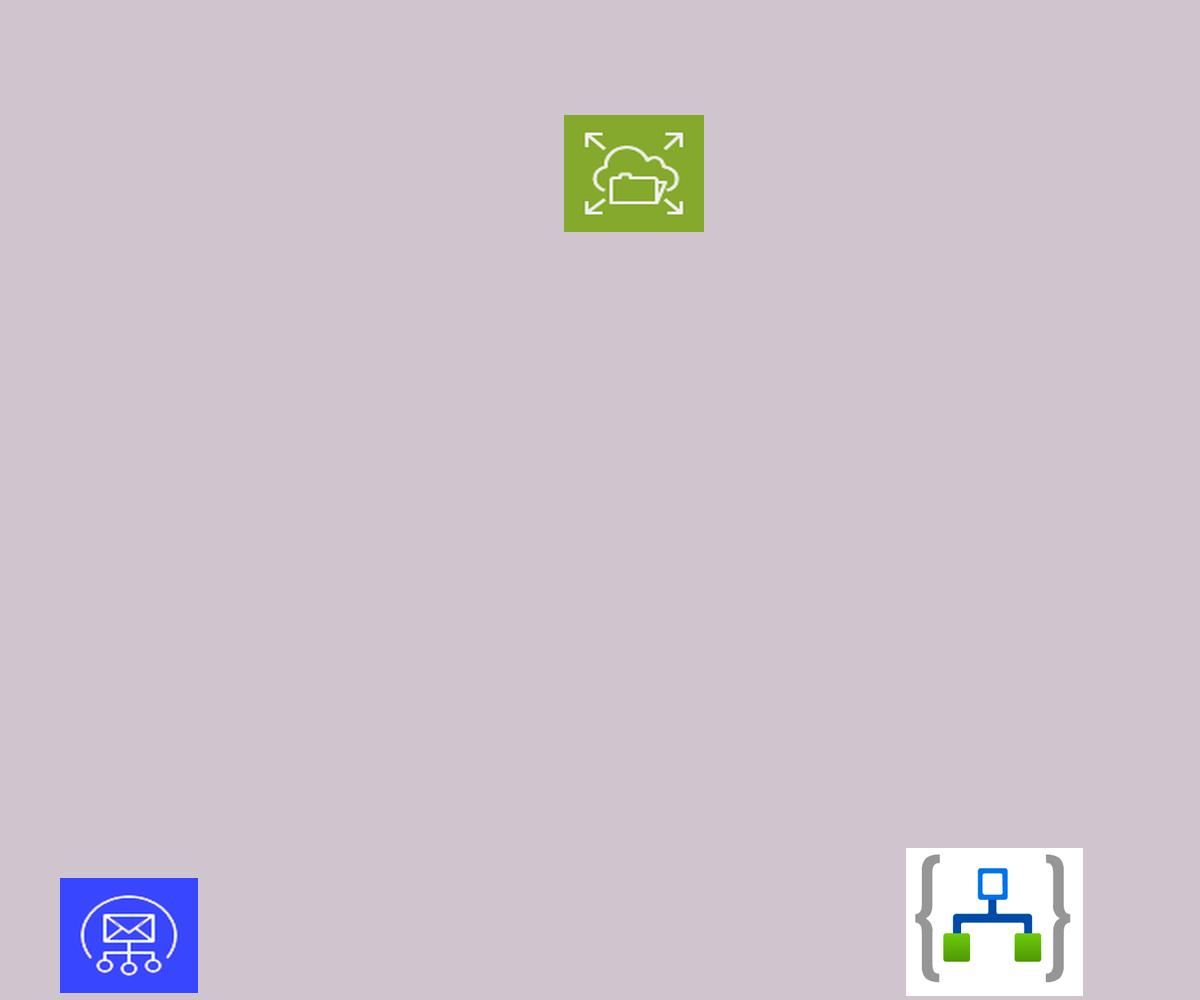AWS-EFS: (564, 115, 704, 232)
AWS-Simple-Email-Service: (60, 878, 198, 993)
Azure_integration-204-Logic-Apps: (906, 848, 1083, 996)
